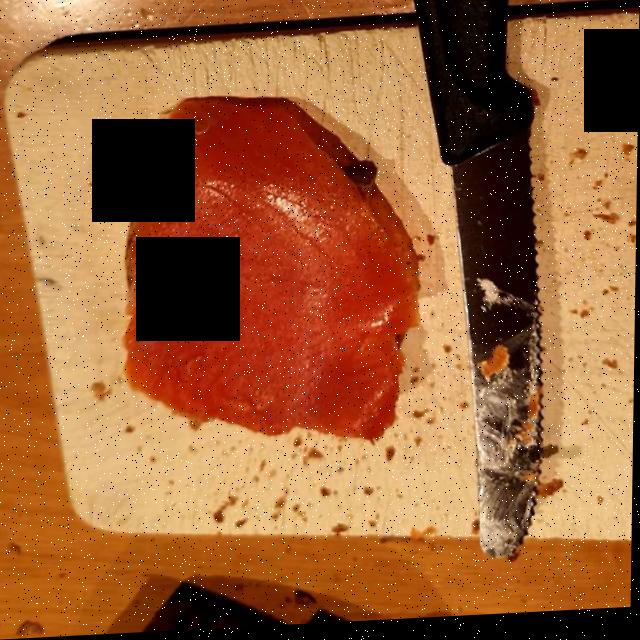salmon-smoked: (132, 99, 418, 434)
